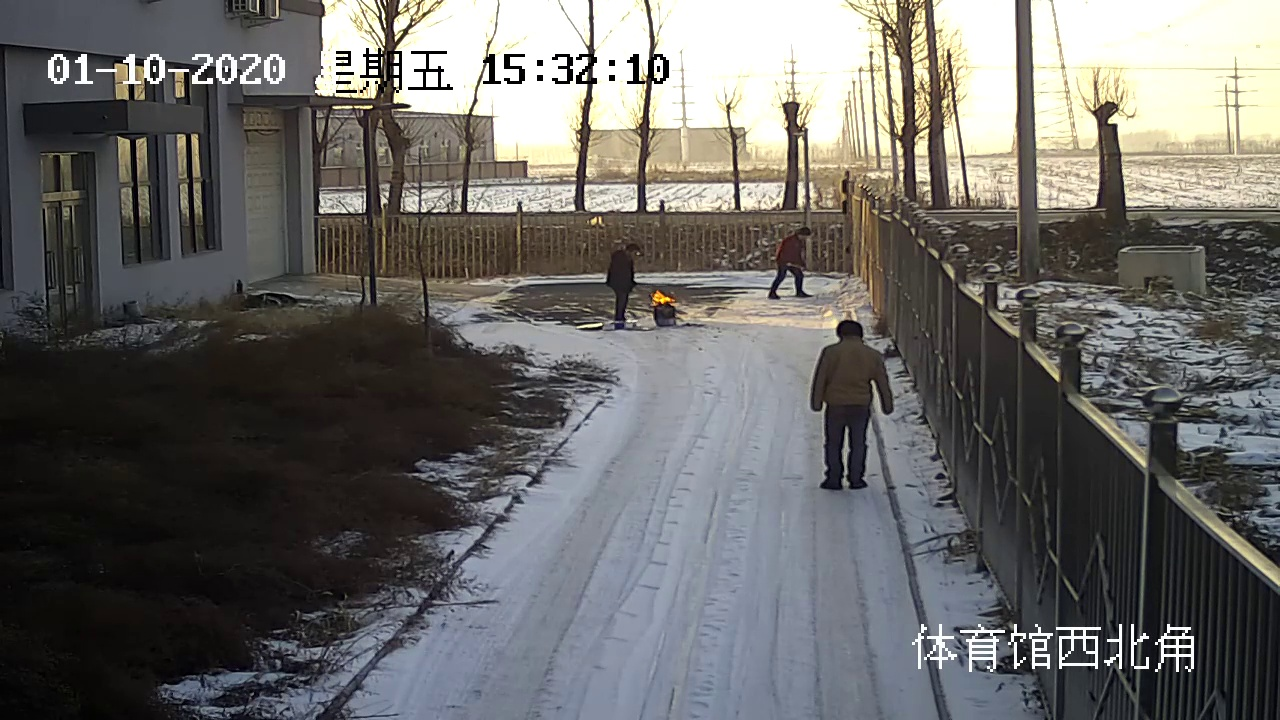fire: (651, 290, 674, 306)
